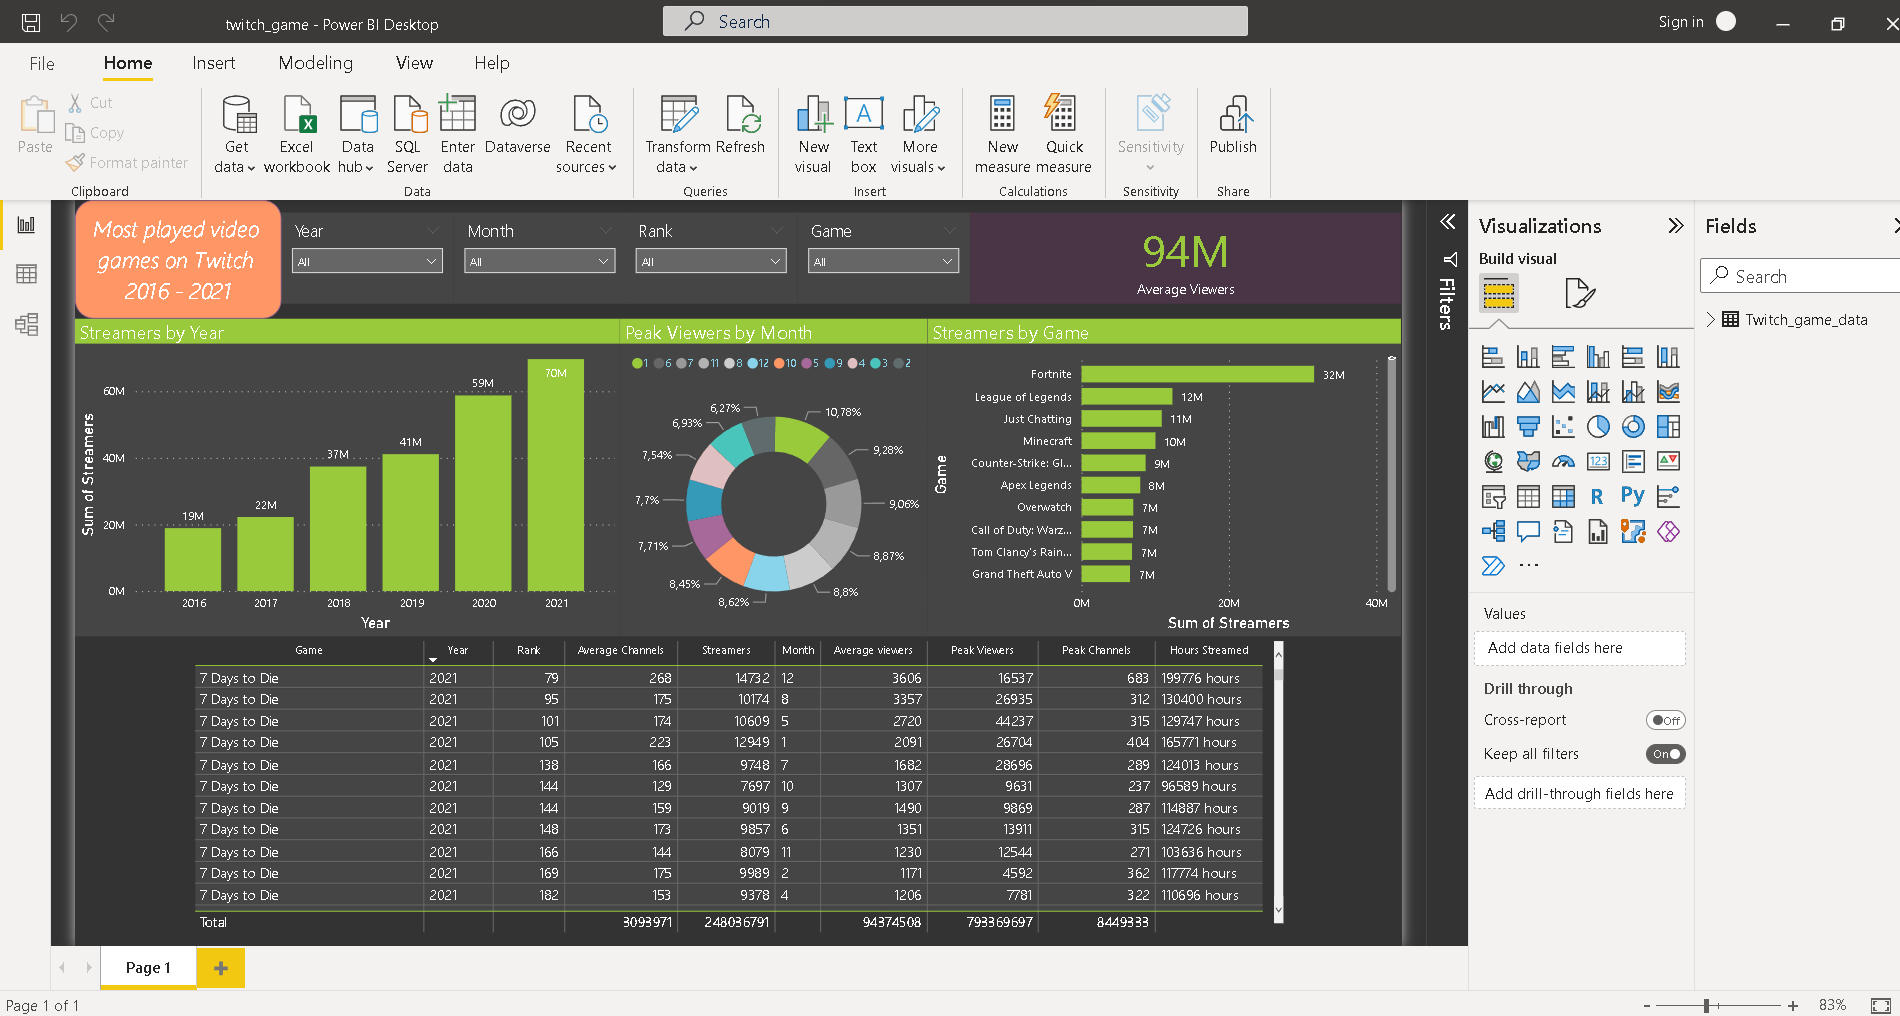

What the dashboard file says about the page in this screenshot:
{"tool":"powerbi","page":{"name":"Page 1","canvas":[1280,720],"ordinal":0},"visuals":[{"type":"tableEx","fields":{"Values":["Twitch_game_data.Game","Twitch_game_data.Year","Twitch_game_data.Rank","Sum(Twitch_game_data.Avg_channels)","Sum(Twitch_game_data.Streamers)","Twitch_game_data.Month","Sum(Twitch_game_data.Avg_viewers)","Sum(Twitch_game_data.Peak_viewers)","Sum(Twitch_game_data.Peak_channels)","Twitch_game_data.Hours_Streamed"]},"box":[109.7,420.9,1061.3,290.7],"z":0},{"type":"columnChart","title":"Streamers by Year","fields":{"Category":["Twitch_game_data.Year"],"Y":["Sum(Twitch_game_data.Streamers)"]},"box":[0,114.6,525.8,306.3],"z":1000},{"type":"donutChart","title":"Peak Viewers by Month","fields":{"Category":["Twitch_game_data.Month"],"Y":["Sum(Twitch_game_data.Peak_viewers)"]},"box":[525.8,114.6,296.7,306.3],"z":2000},{"type":"barChart","title":"Streamers by Game","fields":{"Y":["Sum(Twitch_game_data.Streamers)"],"Category":["Twitch_game_data.Game"]},"box":[822.5,114.6,457.1,306.3],"z":3000},{"type":"card","fields":{"Values":["Sum(Twitch_game_data.Avg_viewers)"]},"box":[863.5,12.1,416.1,88],"z":4000},{"type":"slicer","fields":{"Values":["Twitch_game_data.Year"]},"box":[199,12,166,88],"z":5000},{"type":"slicer","fields":{"Values":["Twitch_game_data.Month"]},"box":[365,12,166,88],"z":6000},{"type":"slicer","fields":{"Values":["Twitch_game_data.Game"]},"box":[697,12,166,88],"z":7000},{"type":"slicer","fields":{"Values":["Twitch_game_data.Rank"]},"box":[531,12,166,88],"z":8000},{"type":"textbox","box":[0,0,199,114.6],"z":9000}]}

Visuals, with their boxes on the page's 1280x720 design canvas (x1, y1, x2, y2). These are canvas units, not pixel positions in the 1900x1016 screenshot, which may show the page scaled, cropped or inside an application window:
tableEx - Twitch_game_data.Game x Twitch_game_data.Year: [110,421,1171,712]
"Streamers by Year" columnChart: [0,115,526,421]
"Peak Viewers by Month" donutChart: [526,115,822,421]
"Streamers by Game" barChart: [822,115,1280,421]
card - Sum(Twitch_game_data.Avg_viewers): [864,12,1280,100]
slicer - Twitch_game_data.Year: [199,12,365,100]
slicer - Twitch_game_data.Month: [365,12,531,100]
slicer - Twitch_game_data.Game: [697,12,863,100]
slicer - Twitch_game_data.Rank: [531,12,697,100]
textbox: [0,0,199,115]
